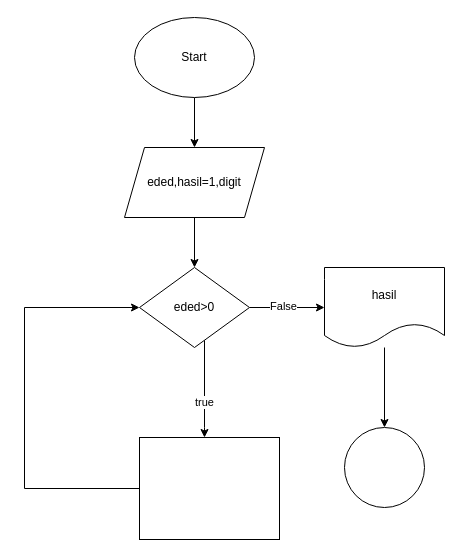
Some shapes in this 462 by 557 pixel diagram are drawn without their labels. The centre of each missing label's shape, as x and y in pixels:
"digit=eded%10 hasil*=digit eded=(eded-digit)/10" belongs at point (209, 488).
"end" belongs at point (384, 467).
